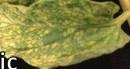Tomato leaf yellow virus: (2, 2, 129, 68)
